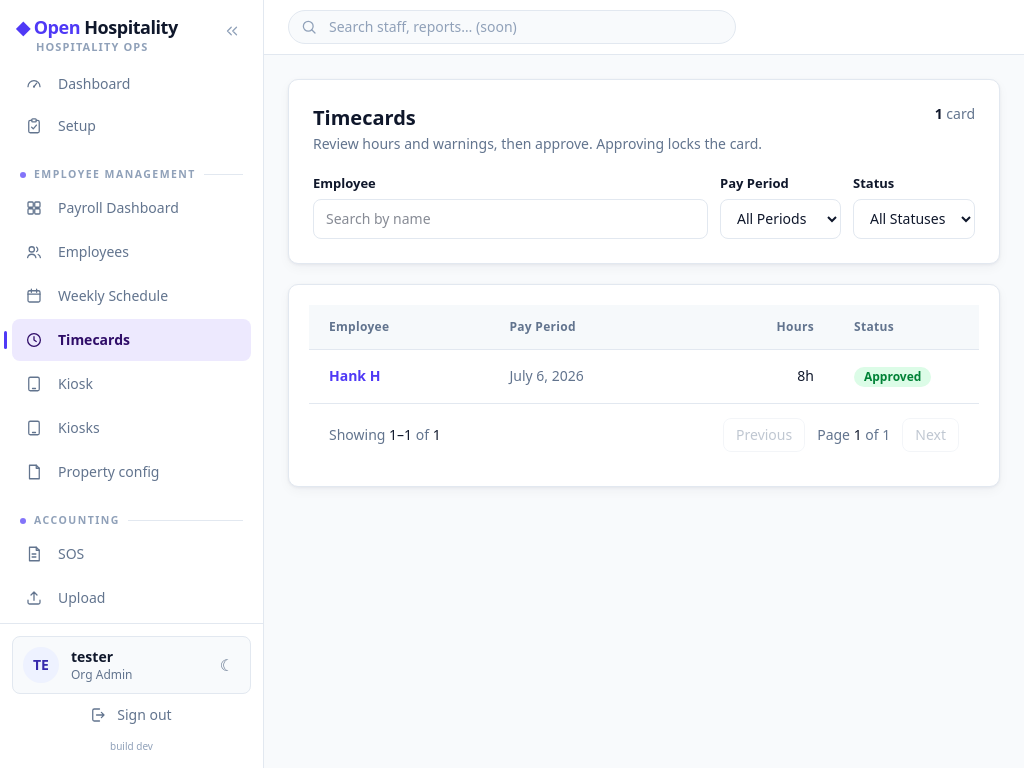
TimecardsPage › an approved card shows badges but no acknowledgment checkboxes
Click the button "Hank H".
click(355, 376)  # box [329,366,380,386]
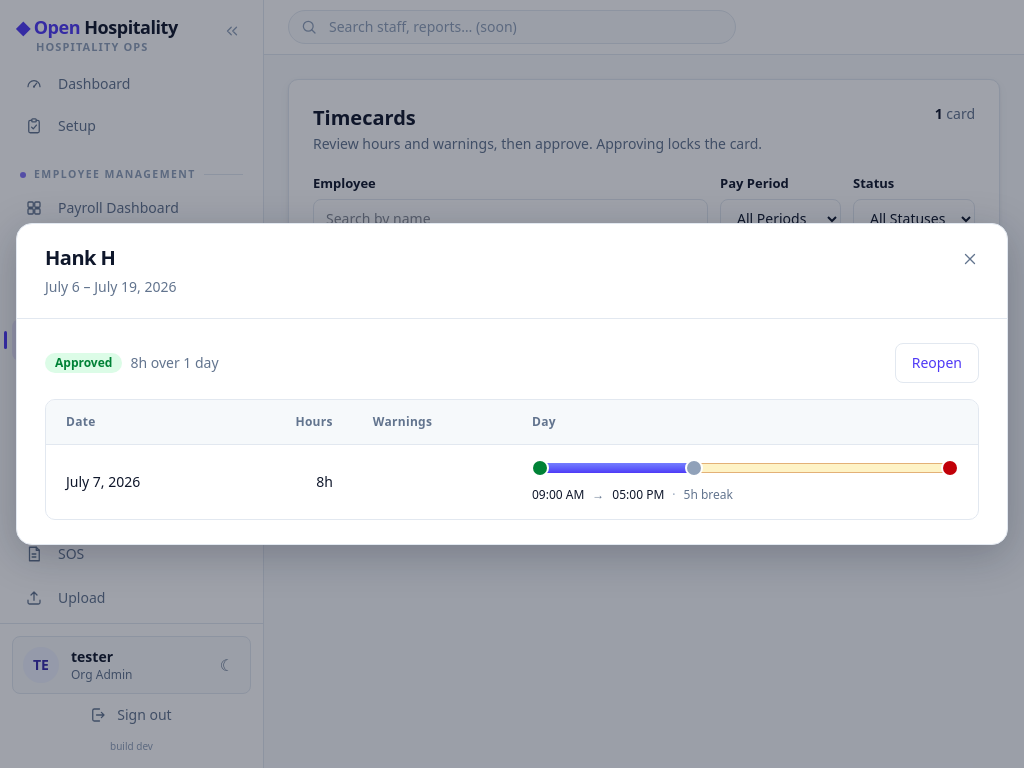
Click the button named "Clock Out".
click(950, 468)  # box [943,461,957,475]
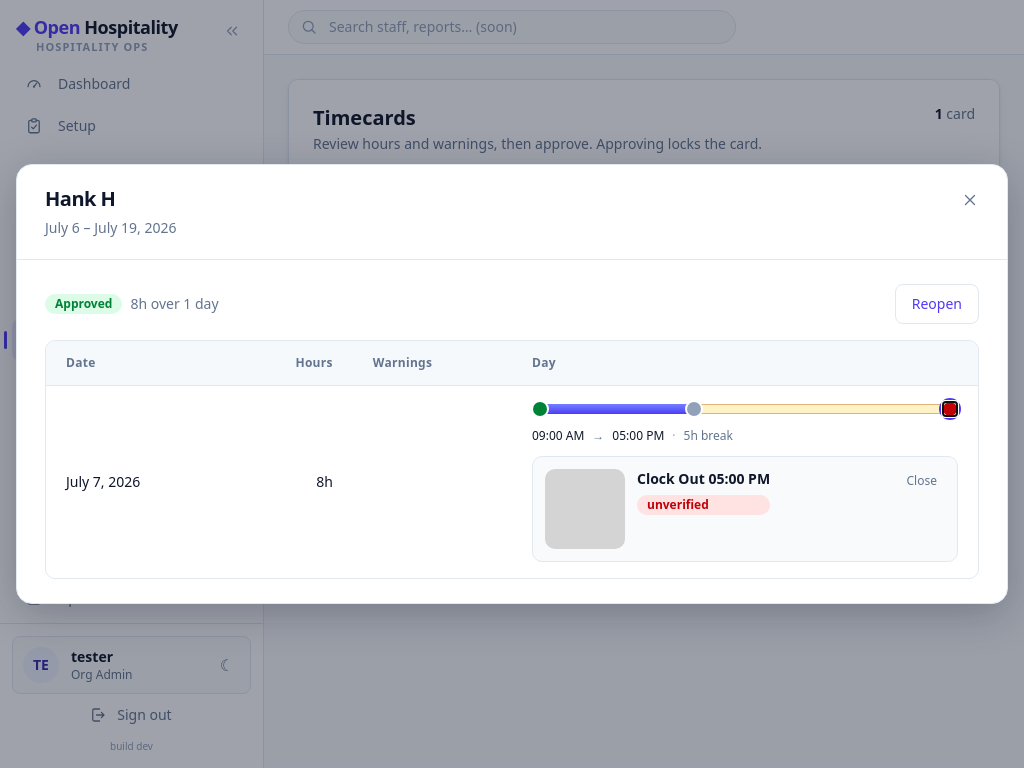
Now the text "unverified" is shown, box [637,495,770,515]
